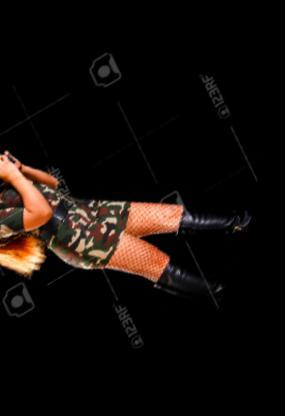pistol: (0, 145, 24, 193)
